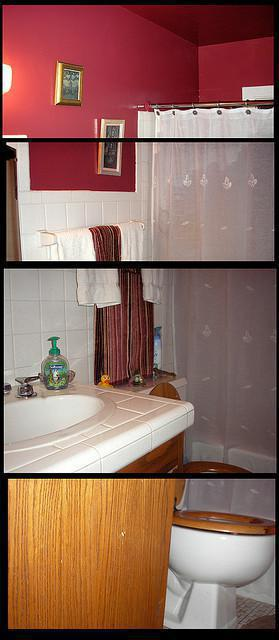Ducha: (136, 103, 278, 609)
Lavamanos: (0, 355, 119, 484)
